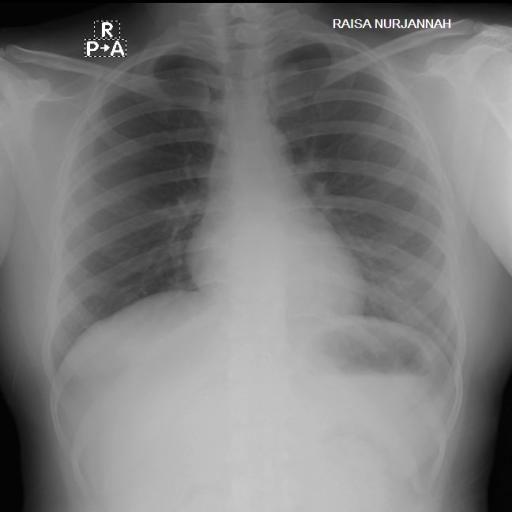normal: (39, 26, 465, 396)
